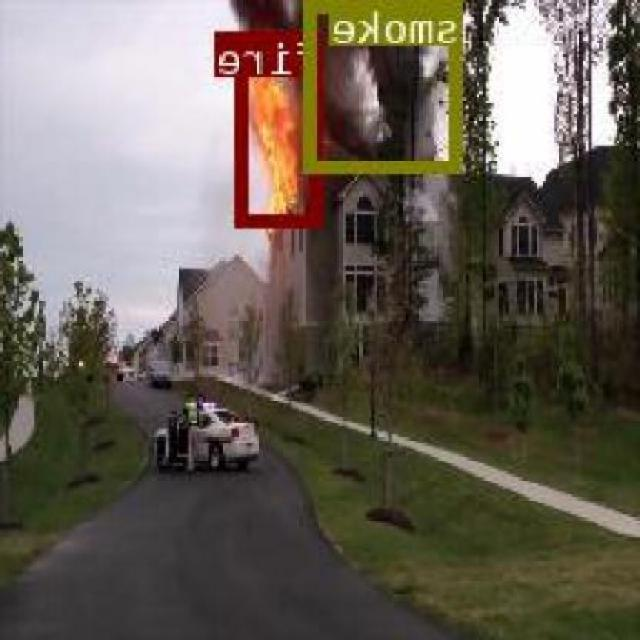fire: (238, 29, 326, 225)
smoke: (309, 0, 463, 171)
